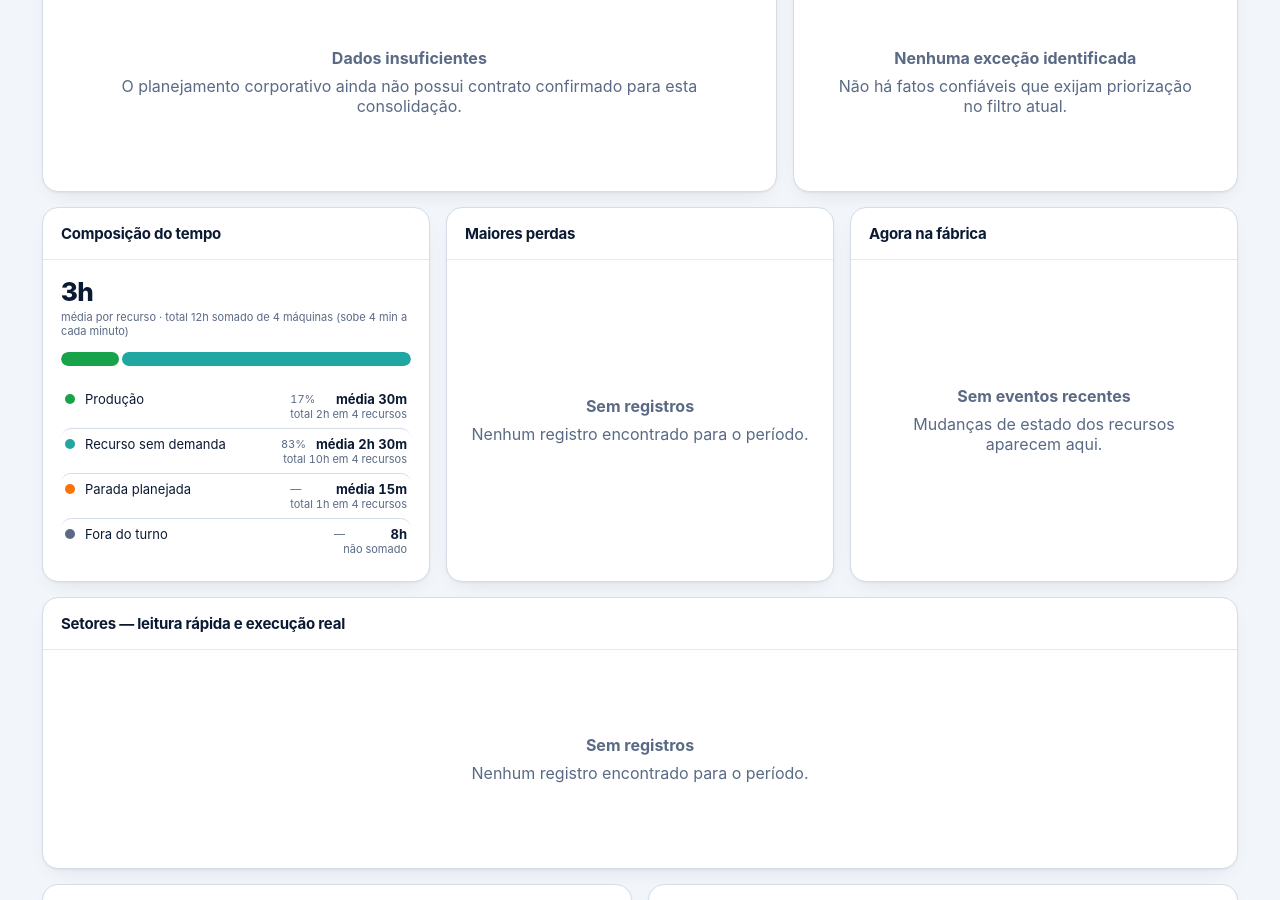
Scenario: Visão Geral: composição do tempo clicável › clicar em 'Recurso sem demanda' abre o painel com tempo.sem_demanda
The image size is (1280, 900).
(page scrolled)
Expected: the text "3h" is shown, [61, 278, 93, 306]
Expected: the text "total 12h somado de 4 máquinas (sobe 4 min a cada minuto)" is shown, [61, 310, 411, 338]
Click the button "Recurso sem demanda 83% média 2h 30m total 10h em 4 recursos": (155, 444) [61, 428, 411, 473]
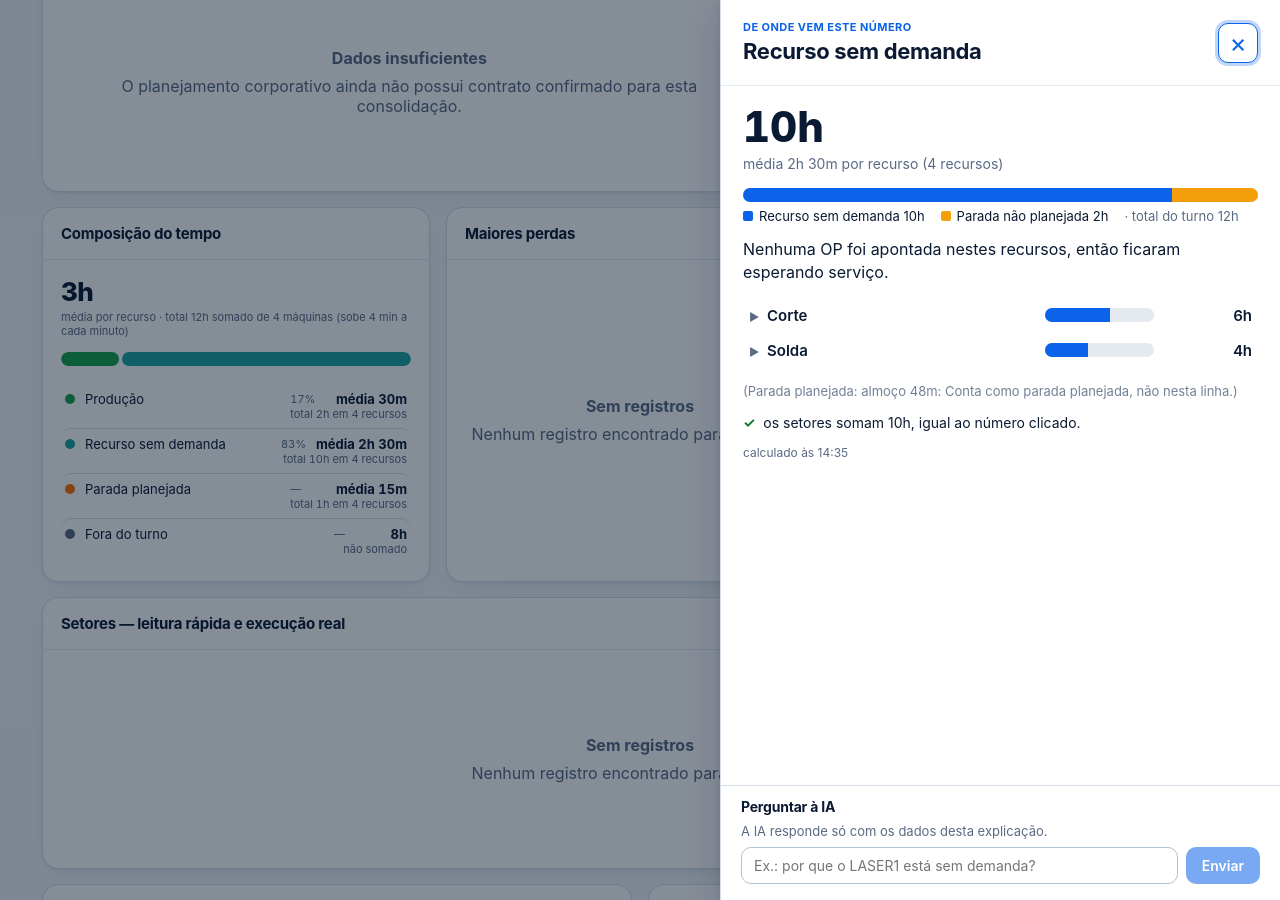
Expected: the text "10h" is shown, [743, 101, 824, 152]
